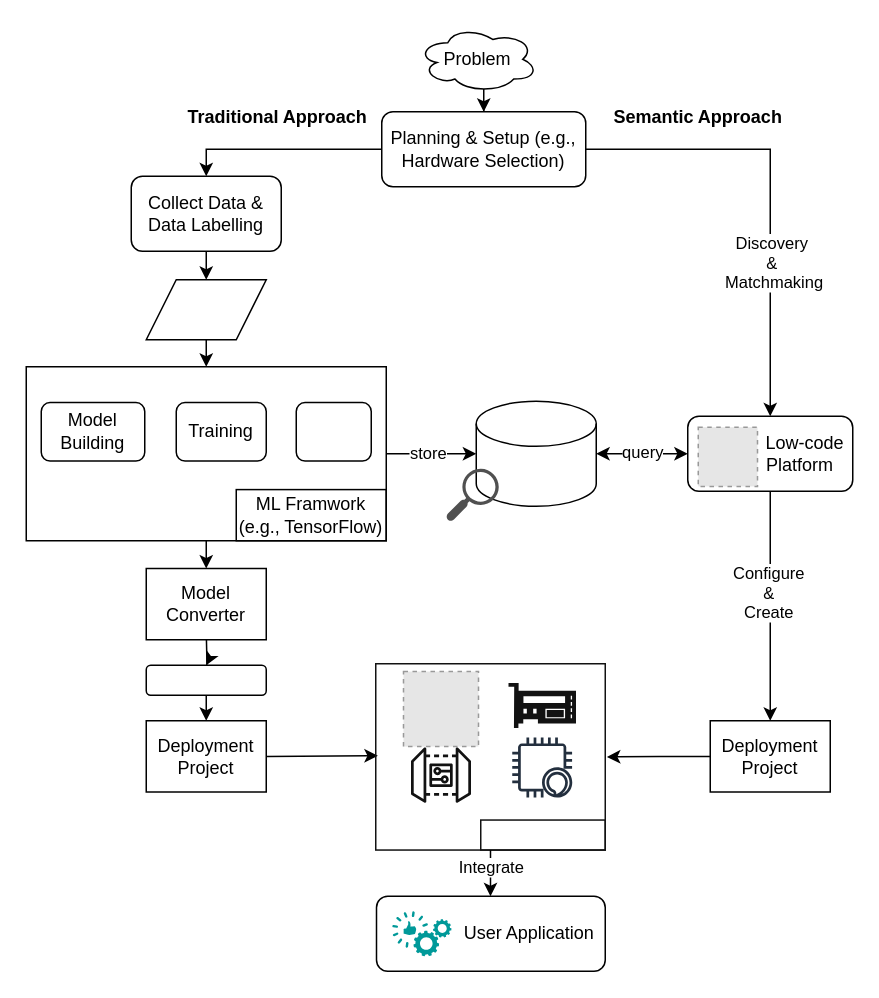
This 879x998 diagram has some shape labels left out. Grey dashed boxes stand in for pictures. The shapes that lost their labels are listed below. From the top down, each one's centre as x and y in pixels, then its label:
At (x=205, y=309): "Data".
At (x=333, y=431): "Testing".
At (x=535, y=453): "Knowledge Graph".
At (x=205, y=679): "Engineering".
At (x=542, y=834): "Edge Devices".
